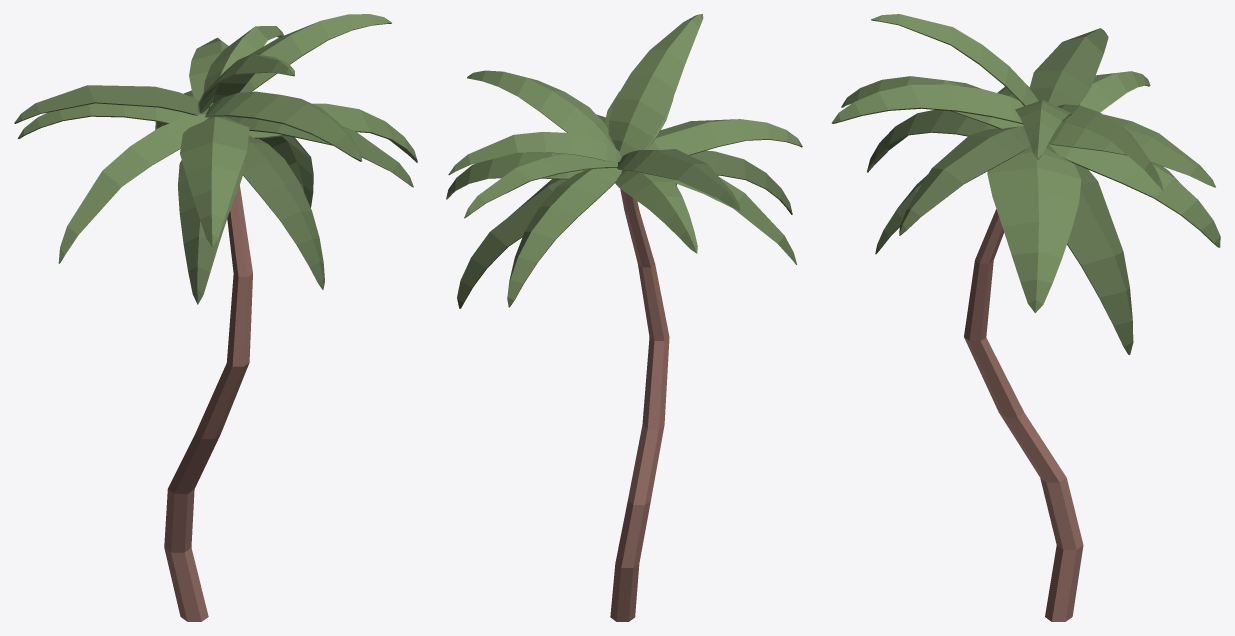
File: palm_1.glb
3 renders of one model, left to right at view 1: azimuth 30°, elevation 25°; view 2: azimuth 150°, elevation 25°; view 3: azimuth 270°, elevation 25°, orthographic. The views are drawn at different scales.
Parts seen in each view (by area): view 1: palm_1; view 2: palm_1; view 3: palm_1.
Boxes of the visible parts, box(x1,y1,x2,y2) form: palm_1: box(14, 14, 417, 621); palm_1: box(446, 14, 802, 621); palm_1: box(831, 14, 1220, 621).
Size of the model in its own units: 2.88 by 4.47 by 2.61.
